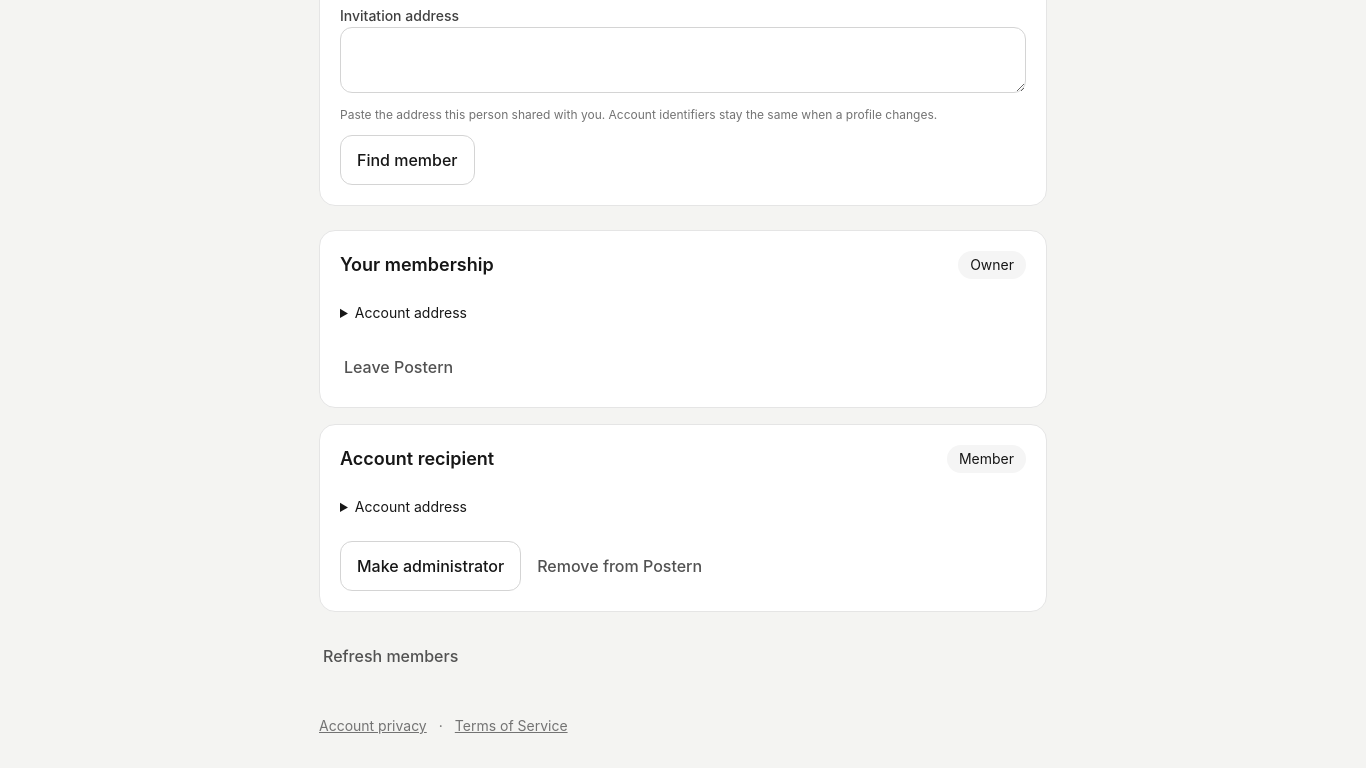
Test: member removal requires confirmation and retries the original operation after a lost response
The width and height of the screenshot is (1366, 768).
(page scrolled)
Step 1. Click the button "Remove from Postern" → click(620, 566), box [533,541,706,591]
(page scrolled)
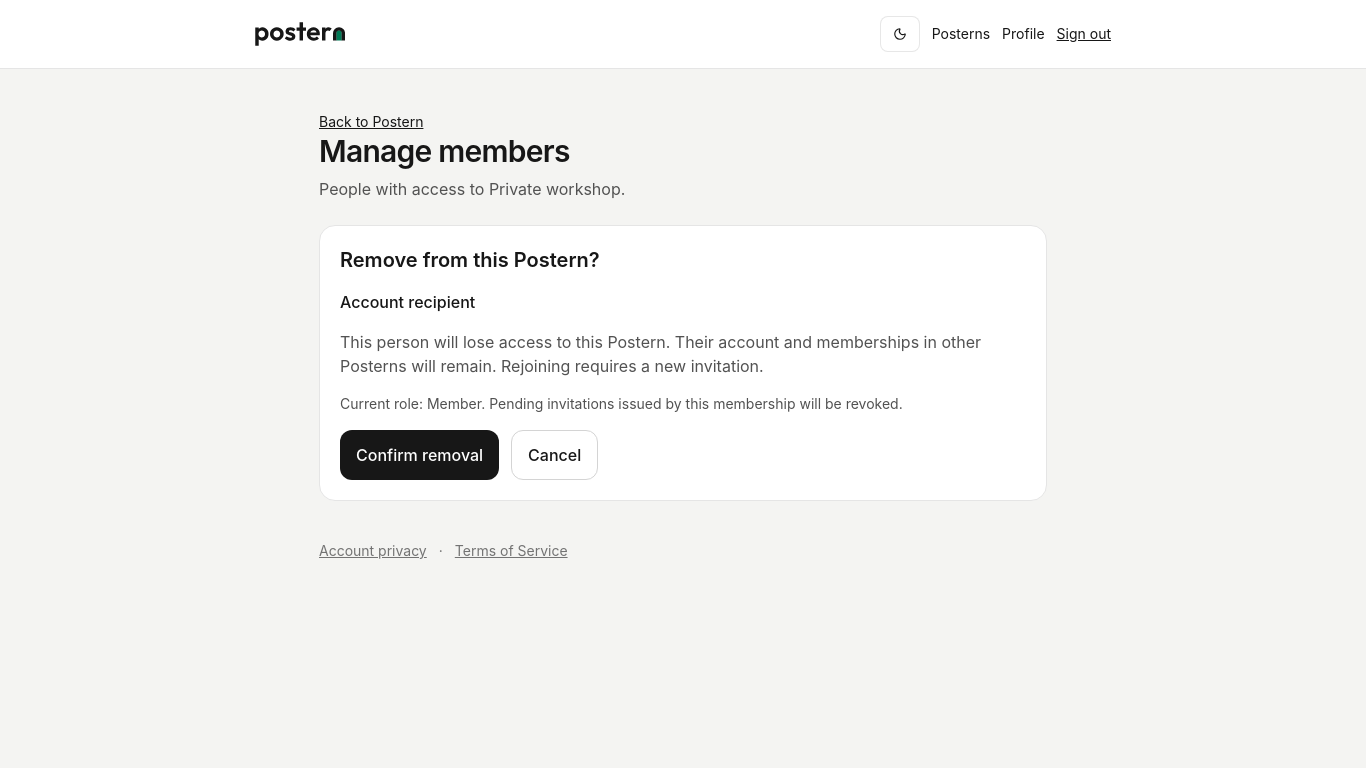
Step 2. Click the button "Confirm removal" → click(420, 455), box [340,430,499,480]
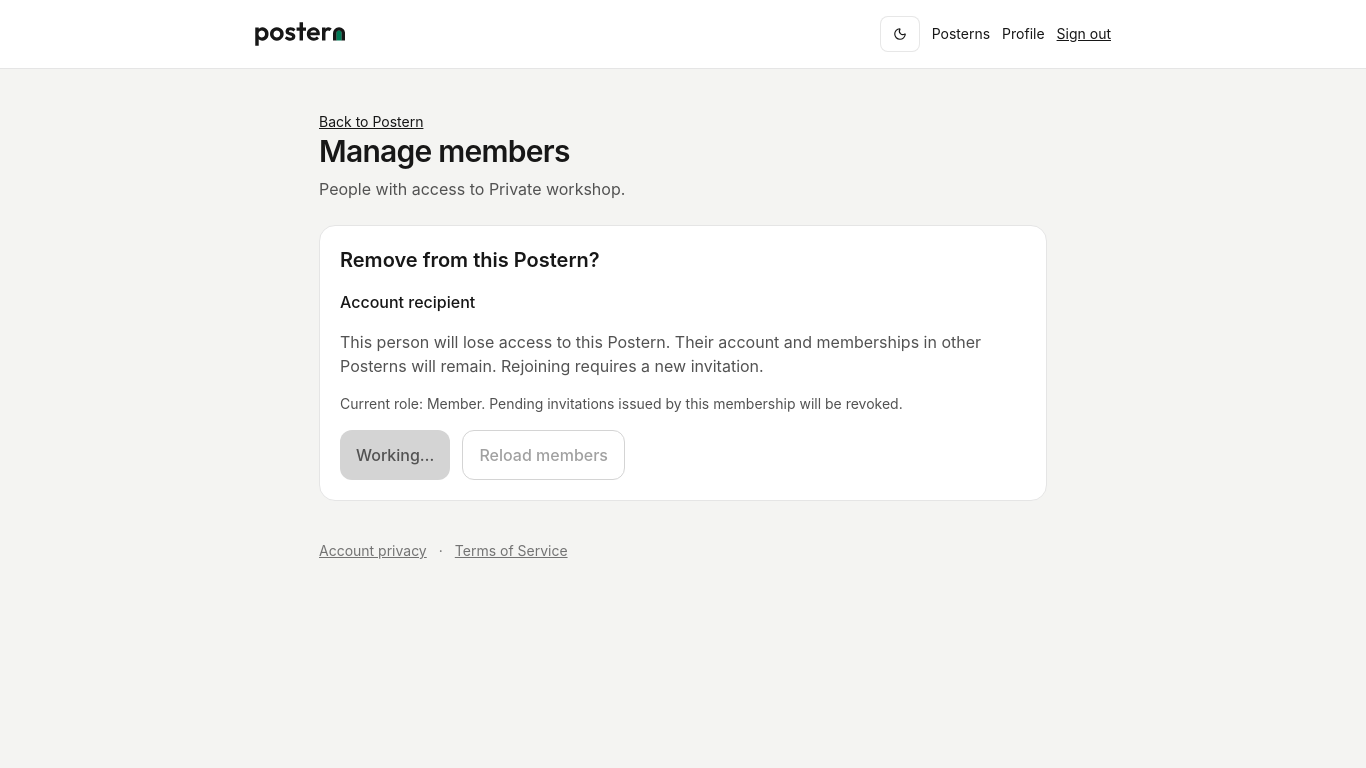
Step 3. Click the button named "Confirm removal" → click(395, 455), box [340,430,450,480]
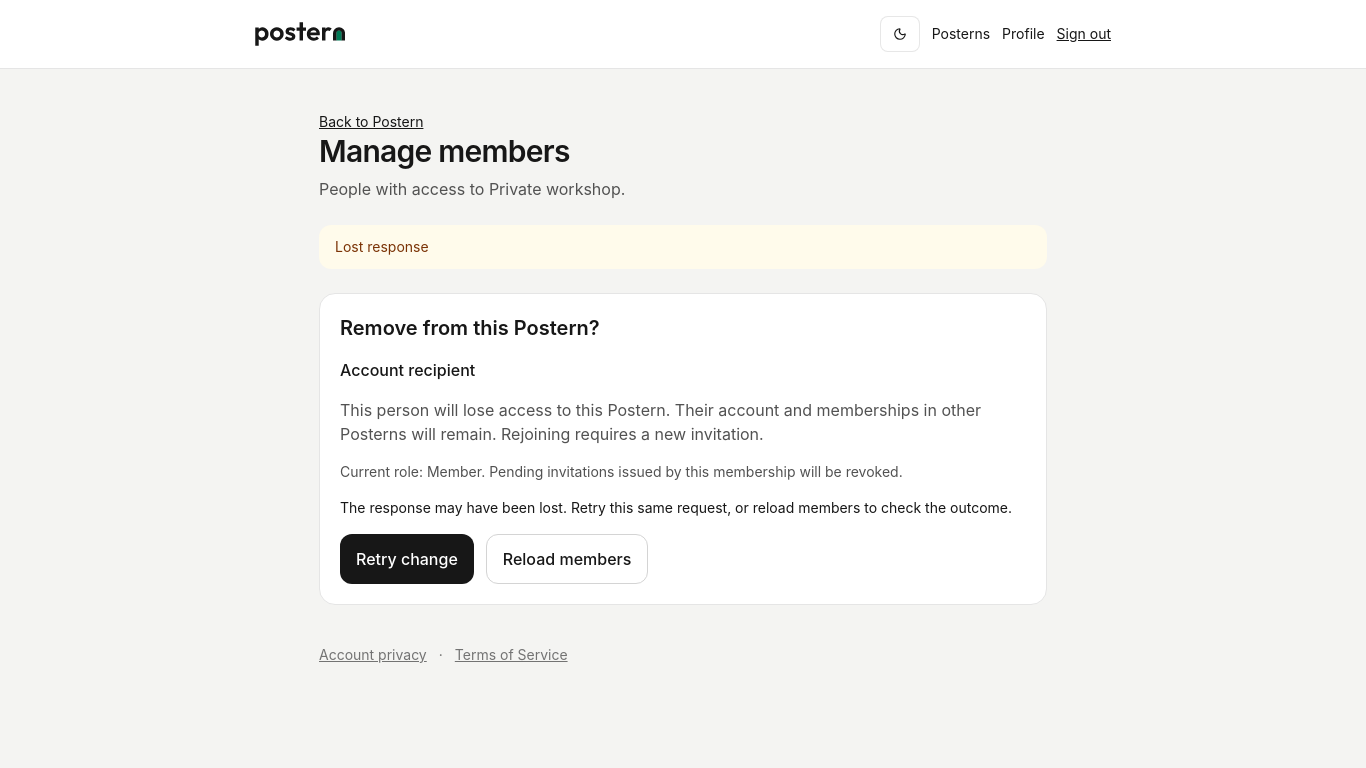
Step 4. Click the button "Retry change" → click(407, 559), box [340,534,474,584]
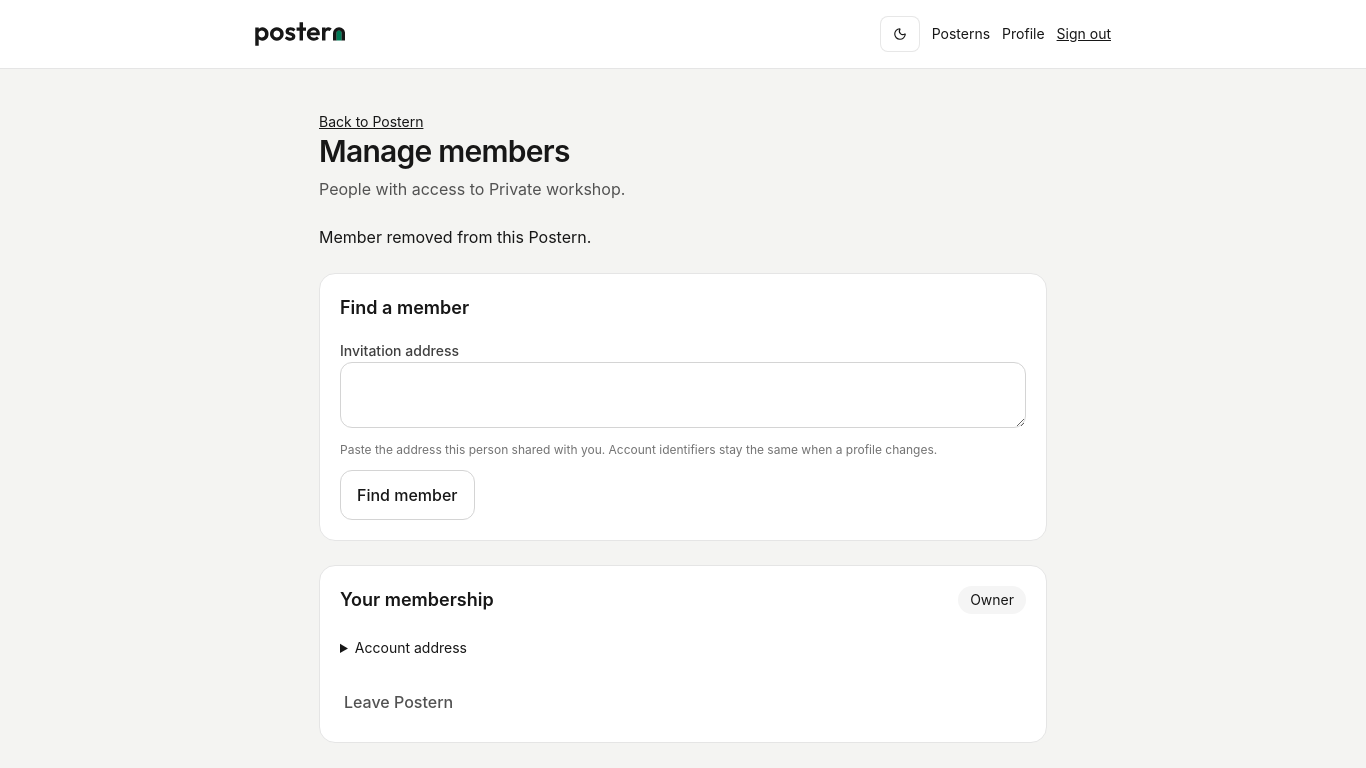
Now the text "Member removed from this Postern." is shown, box [319,227,591,247]
Now the heading "Your membership" is shown, box [340,586,494,614]
Now the text "Account recipient" is gone
